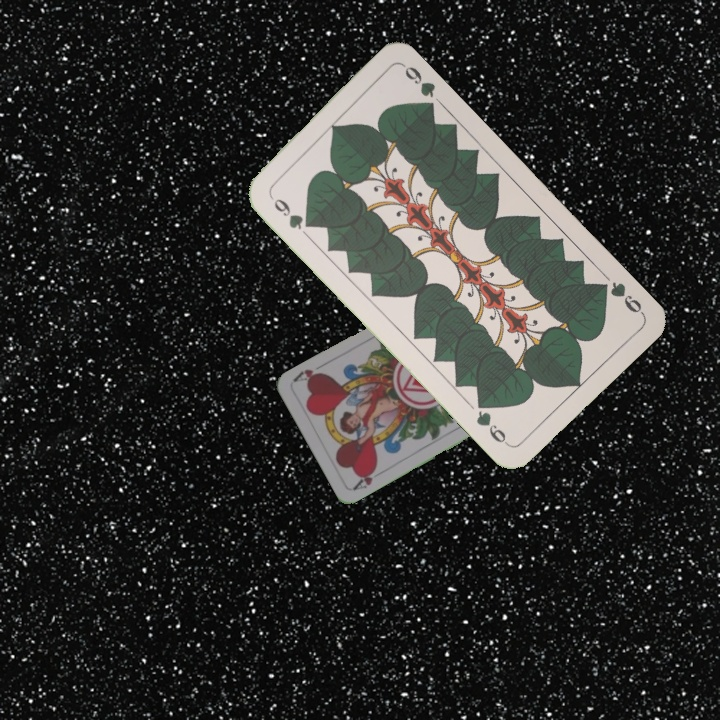G9: (593, 277, 646, 317), (270, 194, 315, 233)
HA: (349, 463, 386, 493)
